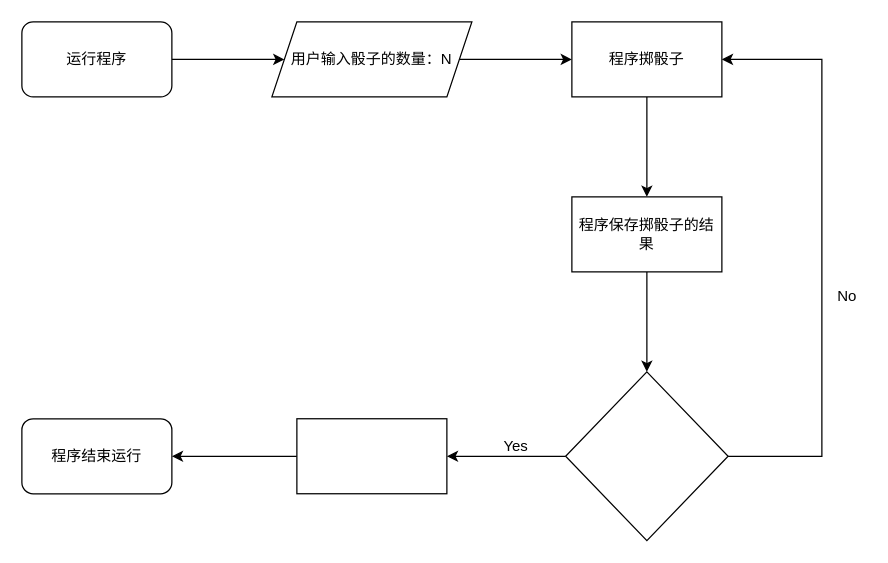
Some shapes in this 888 by 563 pixel diagram are drawn without their labels. The centre of each missing label's shape, as x and y in pixels:
投掷次数是否达到 N 次？: point 646,456
程序输出总的投掷结果: point 371,456
